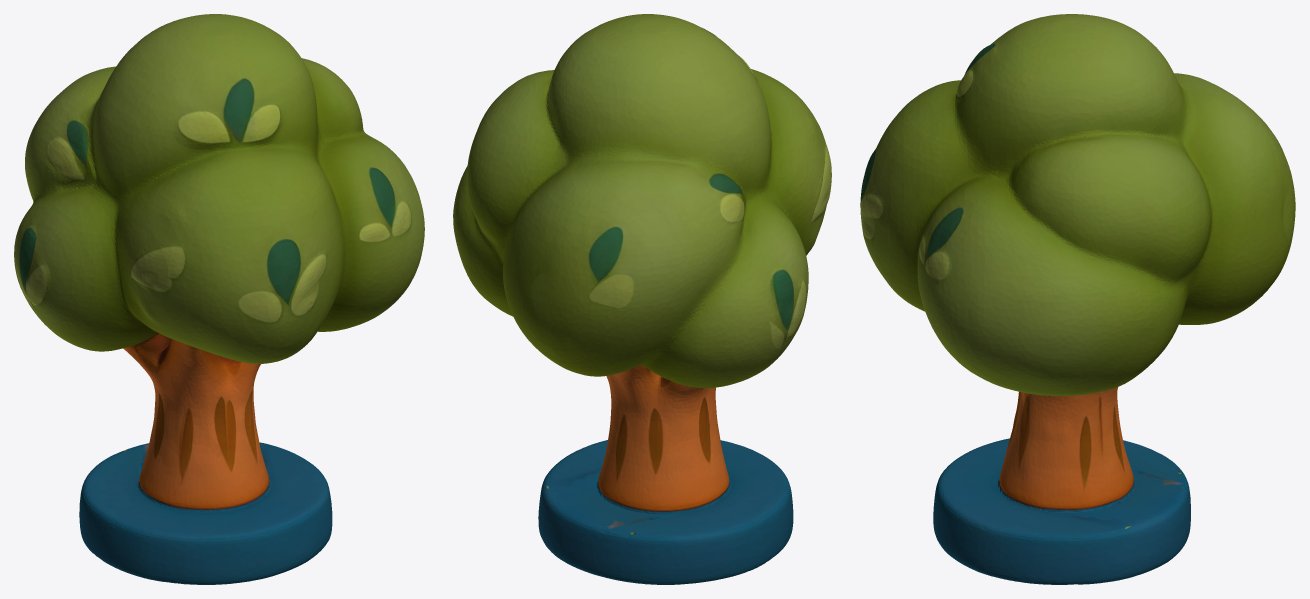
The model's file is tree-round.glb.
The picture shows the model from 3 angles, left to right: view 1: azimuth 30°, elevation 25°; view 2: azimuth 150°, elevation 25°; view 3: azimuth 270°, elevation 25°; orthographic projection. The views are drawn at different scales.
Visible parts, largest first — view 1: textured_mesh.obj; view 2: textured_mesh.obj; view 3: textured_mesh.obj.
Boxes of the visible parts, x1,y1,x2,y2 form: textured_mesh.obj: (14, 14, 424, 584); textured_mesh.obj: (453, 14, 831, 584); textured_mesh.obj: (860, 14, 1295, 584).
Bounding box in the file's own units: 1.45 × 1.99 × 1.52.
Materials: 1 (1 with a texture image).
